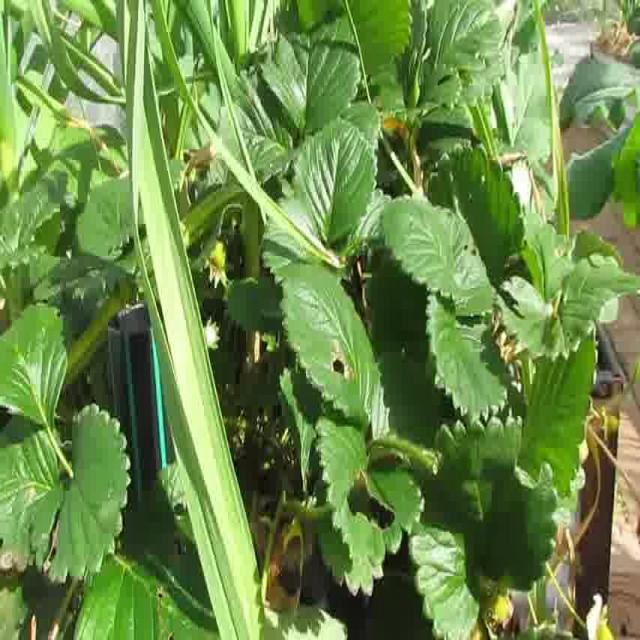Fruta sana: (478, 580, 514, 631), (454, 609, 494, 640), (208, 240, 227, 268), (606, 414, 619, 431)
